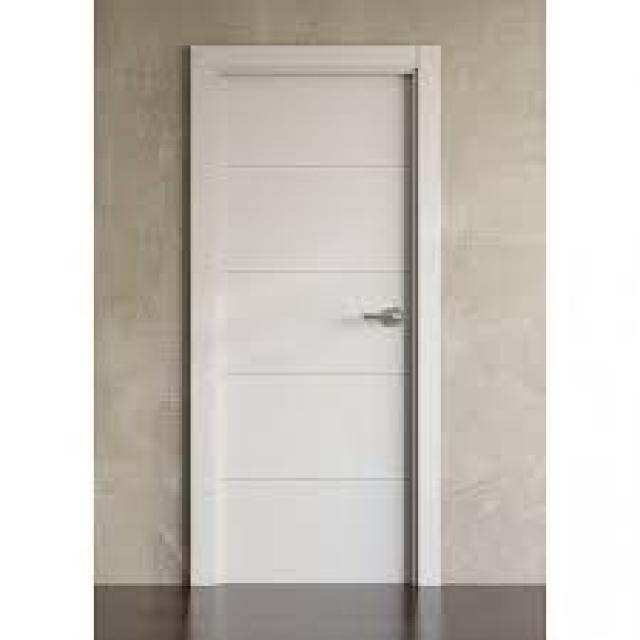door: (188, 44, 421, 587)
